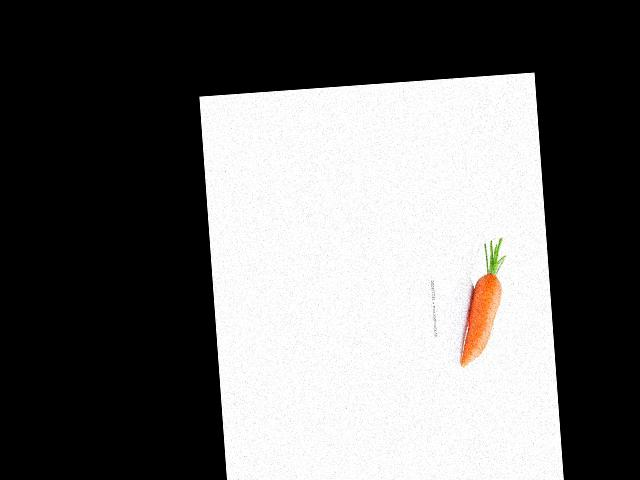carrot: (451, 272, 508, 368)
